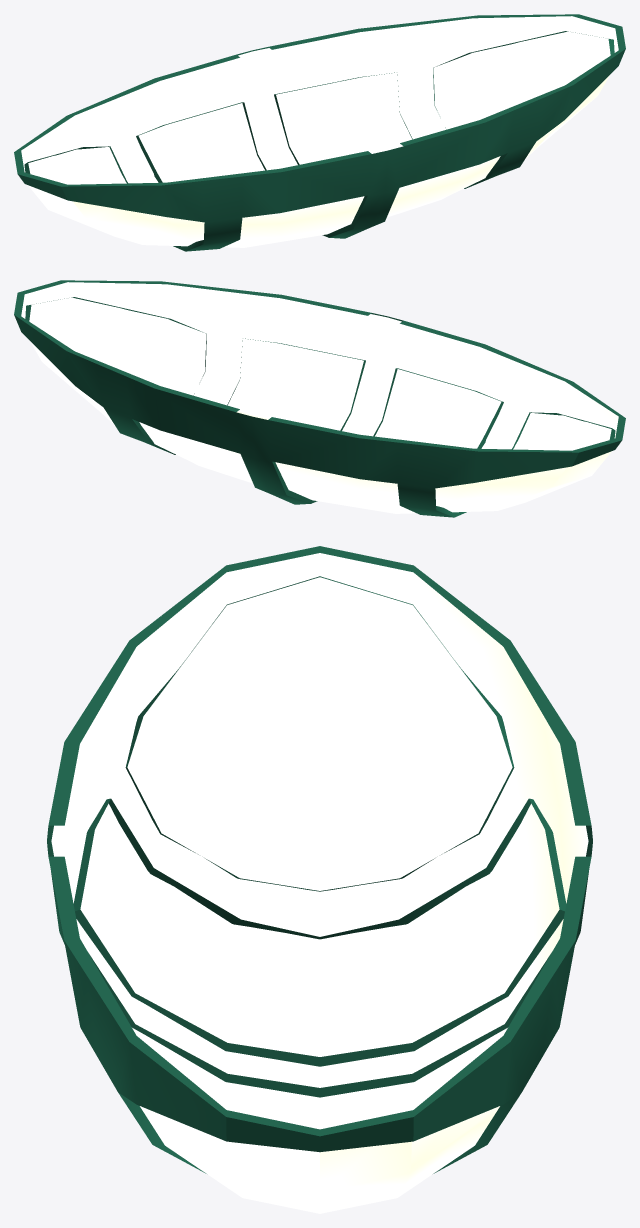
File: light_interior.fbx
3 views of the same model, one above another, from view 1: azimuth 30°, elevation 25°; view 2: azimuth 150°, elevation 25°; view 3: azimuth 270°, elevation 25° (orthographic). The views are drawn at different scales.
Parts seen in each view (by area): view 1: light_interior; view 2: light_interior; view 3: light_interior.
Boxes of the visible parts, x1,y1,x2,y2 form: light_interior: (14, 14, 625, 251); light_interior: (14, 280, 625, 517); light_interior: (47, 546, 592, 1213).
Bounding box in the file's own units: 0.5201 × 0.1054 × 0.2034.
